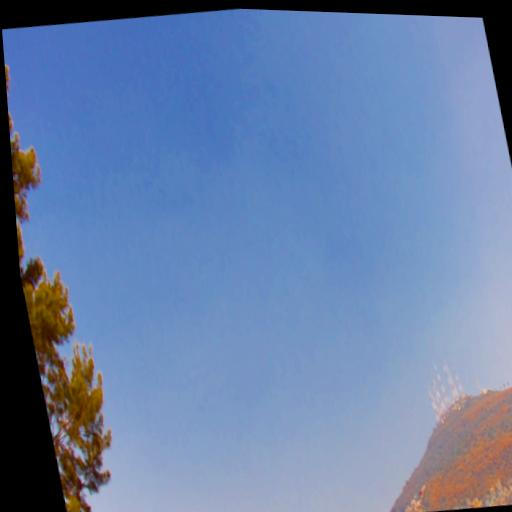drones: (510, 339, 512, 351)
